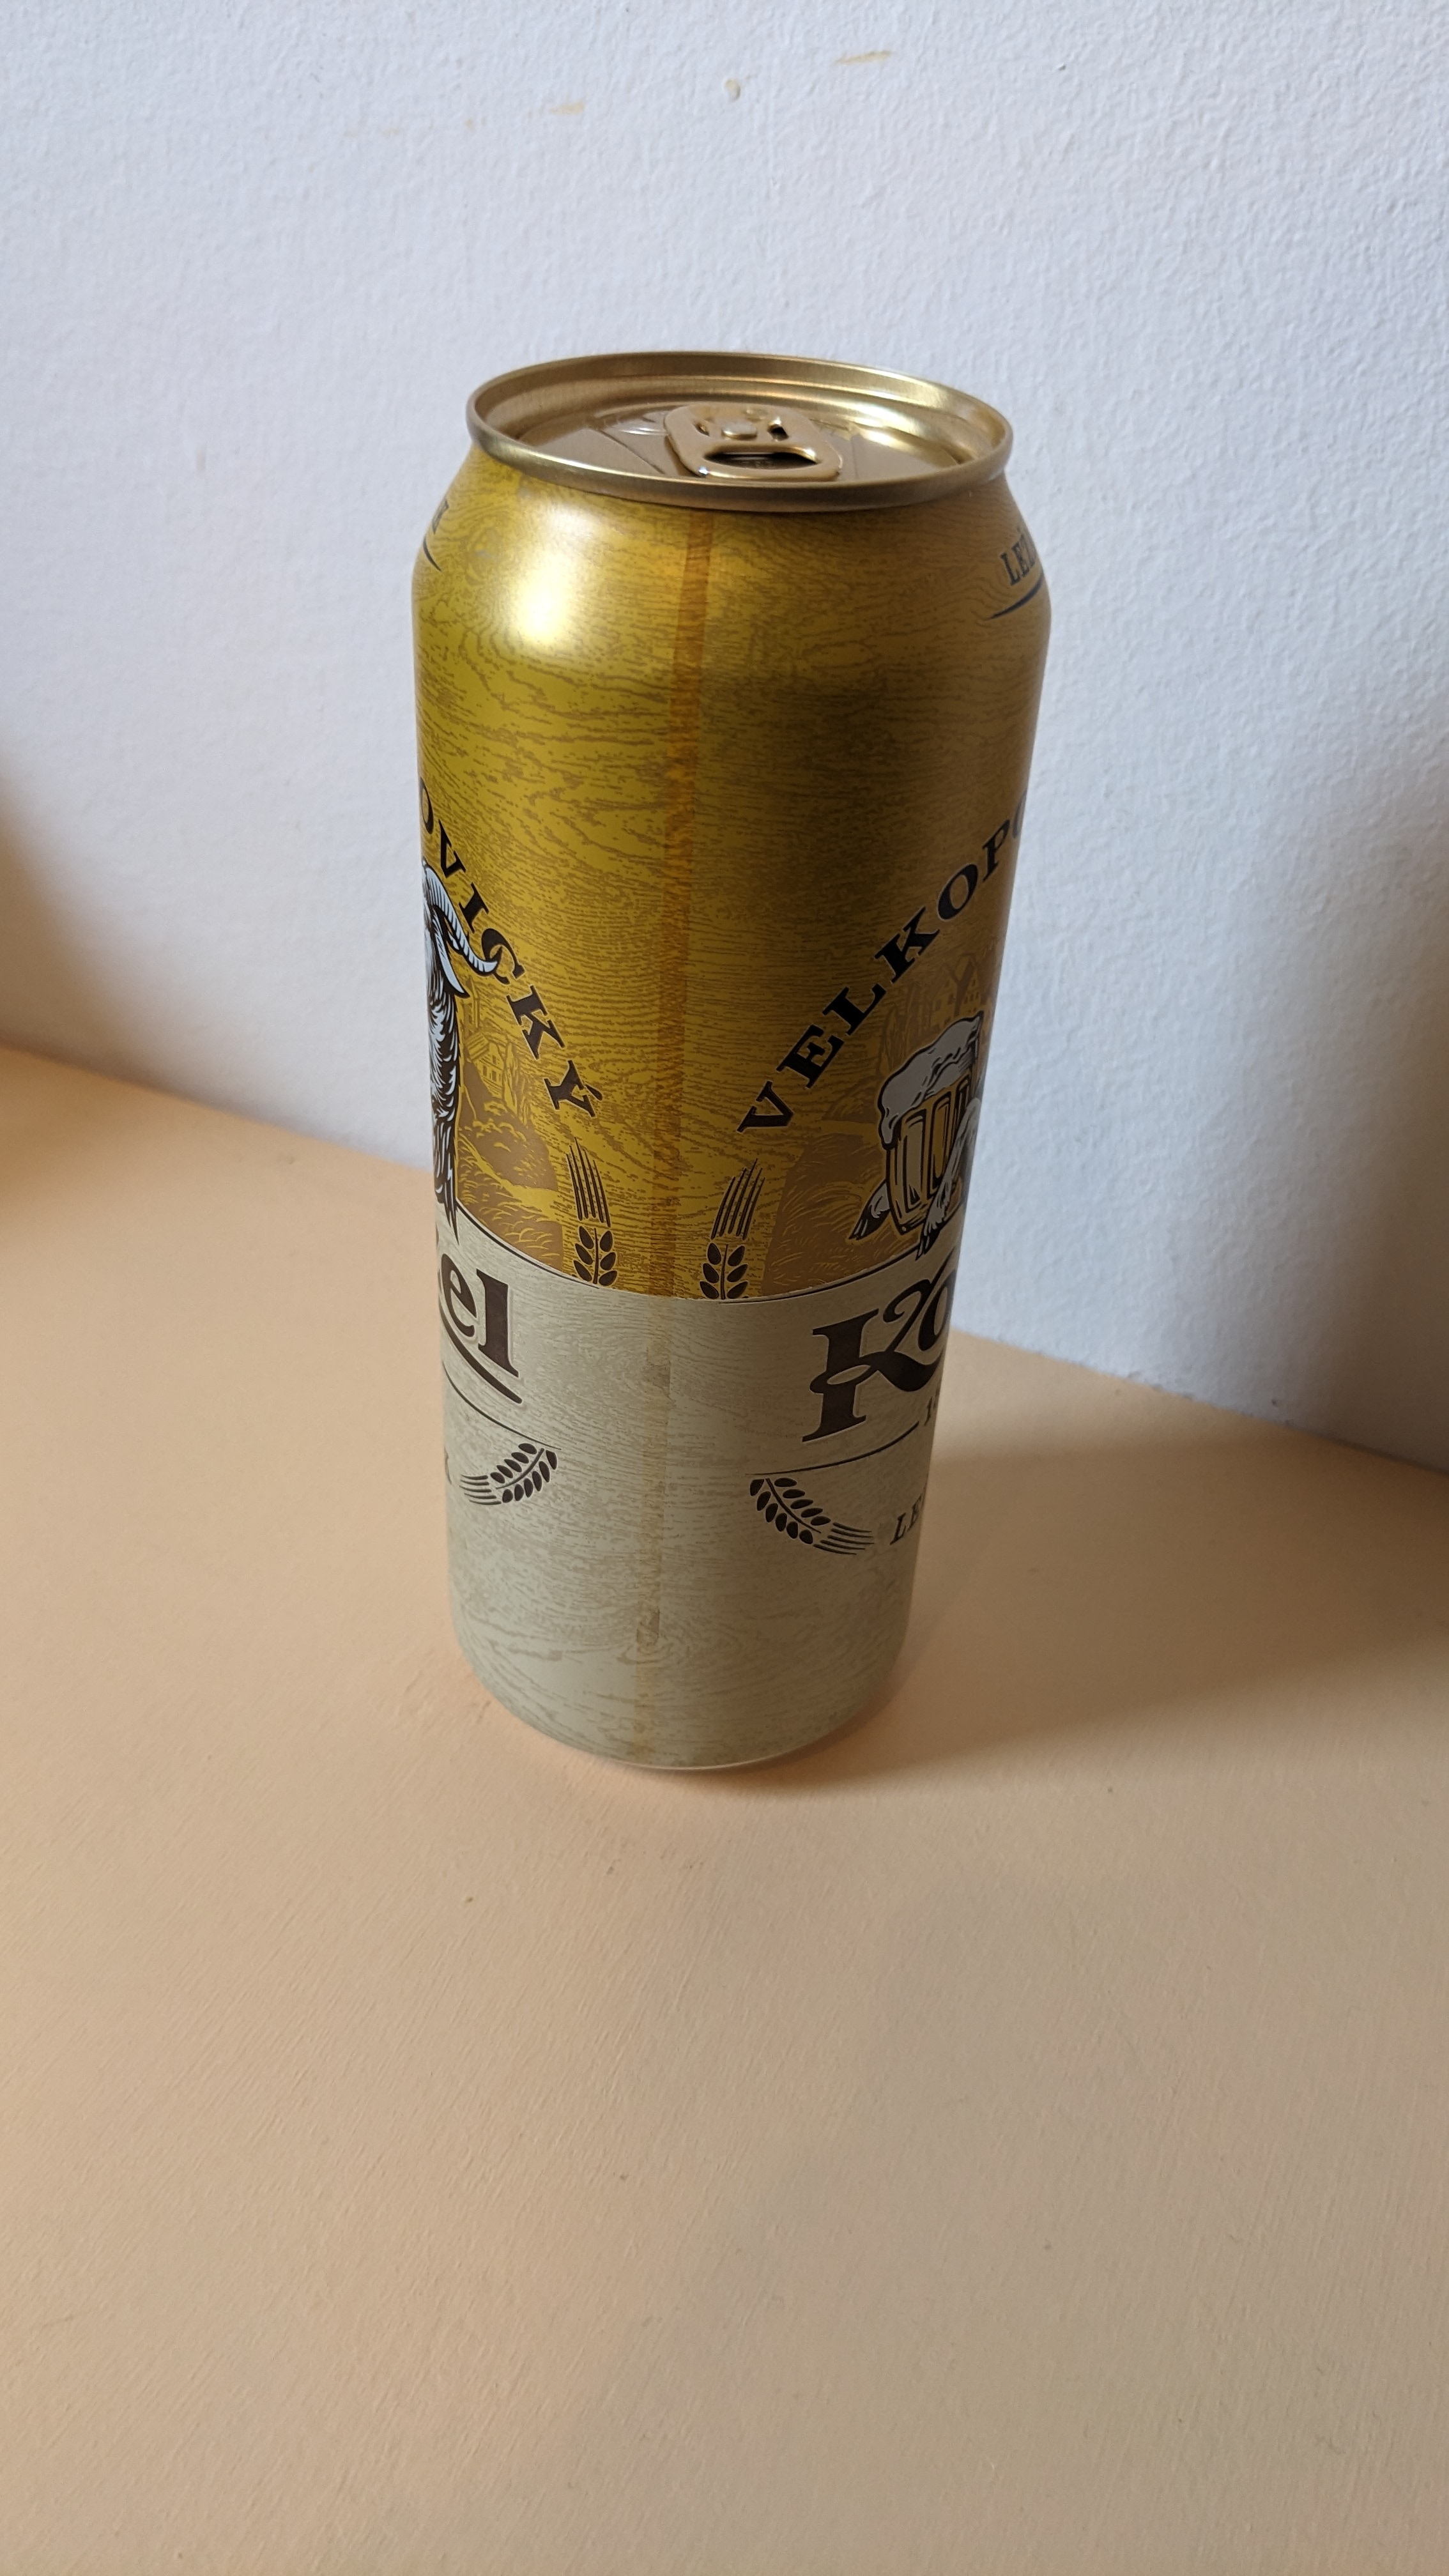kozel: (361, 327, 1049, 1831)
